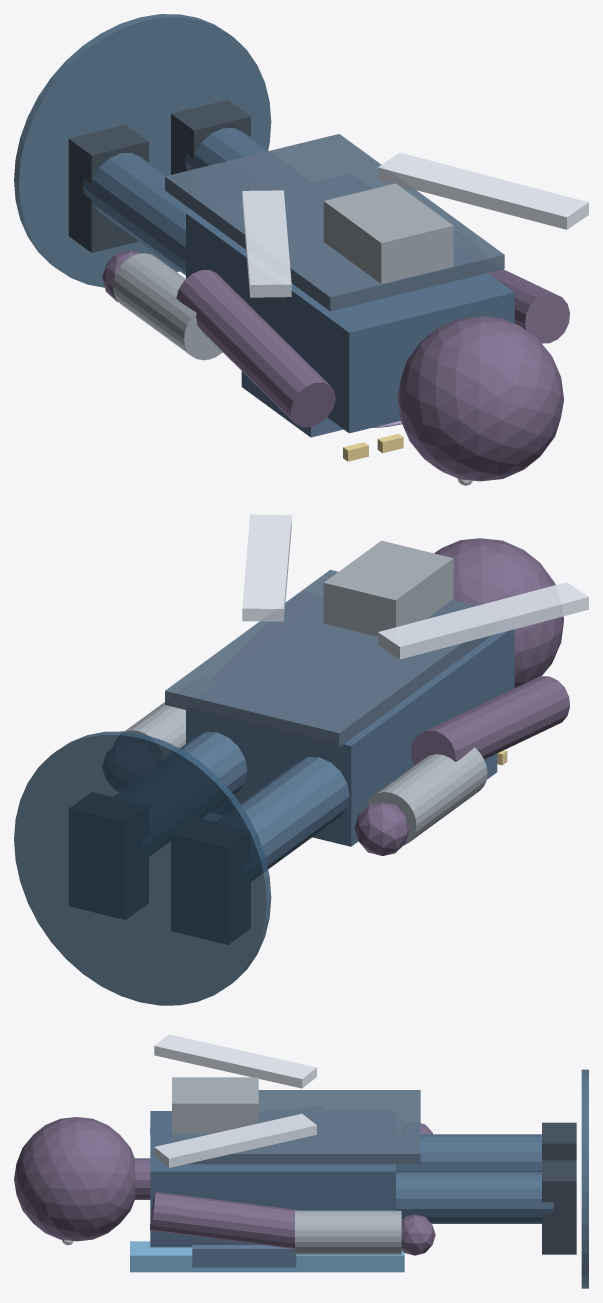
The model's file is SW_NPC_014_nyra_aethermark.glb.
3 views of the same model, one above another, from view 1: azimuth 30°, elevation 25°; view 2: azimuth 150°, elevation 25°; view 3: azimuth 270°, elevation 25° (orthographic). The views are drawn at different scales.
Visible parts, largest first — view 1: round_base_plate, head, torso_uniform, storm_cloak, left_upper_arm, wingpack_core, left_leg, right_wing_rig, left_forearm_gauntlet, left_boot, left_wing_rig, right_boot (+4 smaller); view 2: round_base_plate, storm_cloak, torso_uniform, wingpack_core, head, left_upper_arm, left_leg, left_wing_rig, left_forearm_gauntlet, right_wing_rig, left_hand, right_leg (+1 smaller); view 3: head, torso_uniform, storm_cloak, right_leg, right_upper_arm, left_leg, right_forearm_gauntlet, wingpack_core, rank_sash, left_wing_rig, right_wing_rig, right_boot (+5 smaller).
Part boxes in pixels (x1,y1,x2,y2): round_base_plate: (14,14,271,287); head: (397,316,563,481); torso_uniform: (186,211,514,433); storm_cloak: (165,134,504,311); left_upper_arm: (176,270,335,427); wingpack_core: (323,183,453,283); left_leg: (82,153,192,275); right_wing_rig: (378,152,588,229); left_forearm_gauntlet: (113,253,222,360); left_boot: (68,124,148,252); left_wing_rig: (242,190,291,297); right_boot: (171,100,250,174); round_base_plate: (14,731,271,1005); storm_cloak: (165,570,492,747); torso_uniform: (186,629,514,846); wingpack_core: (323,540,453,636); head: (434,538,563,687); left_upper_arm: (411,676,569,765); left_leg: (240,757,349,869); left_wing_rig: (378,582,588,659); left_forearm_gauntlet: (366,747,487,845); right_wing_rig: (242,514,291,621); left_hand: (354,801,409,855); right_leg: (180,732,247,794); head: (14,1117,135,1241); torso_uniform: (150,1111,395,1247); storm_cloak: (172,1090,420,1164); right_leg: (396,1172,553,1223); right_upper_arm: (150,1192,300,1248); left_leg: (396,1134,541,1171); right_forearm_gauntlet: (295,1210,401,1254); wingpack_core: (172,1077,258,1134); rank_sash: (130,1241,404,1272); left_wing_rig: (154,1034,316,1088); right_wing_rig: (154,1113,316,1167); right_boot: (542,1160,576,1254).
Bounding box in the file's own units: 1.05 × 0.7812 × 2.05.
